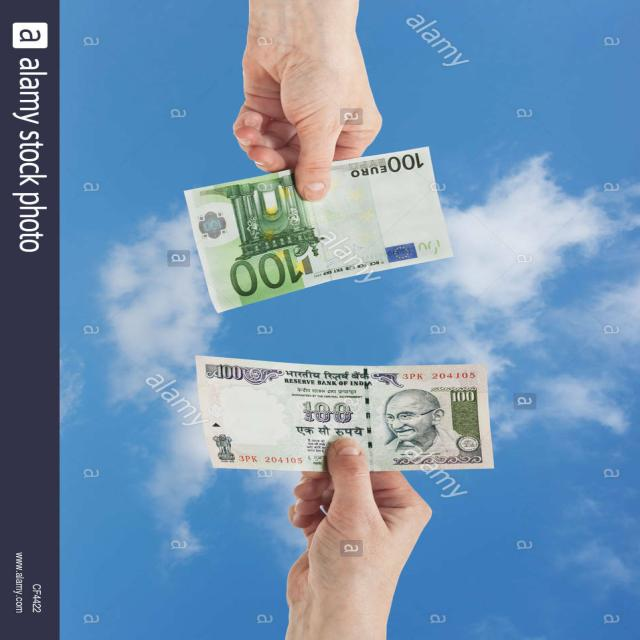100IndianRupees: (196, 360, 489, 471)
